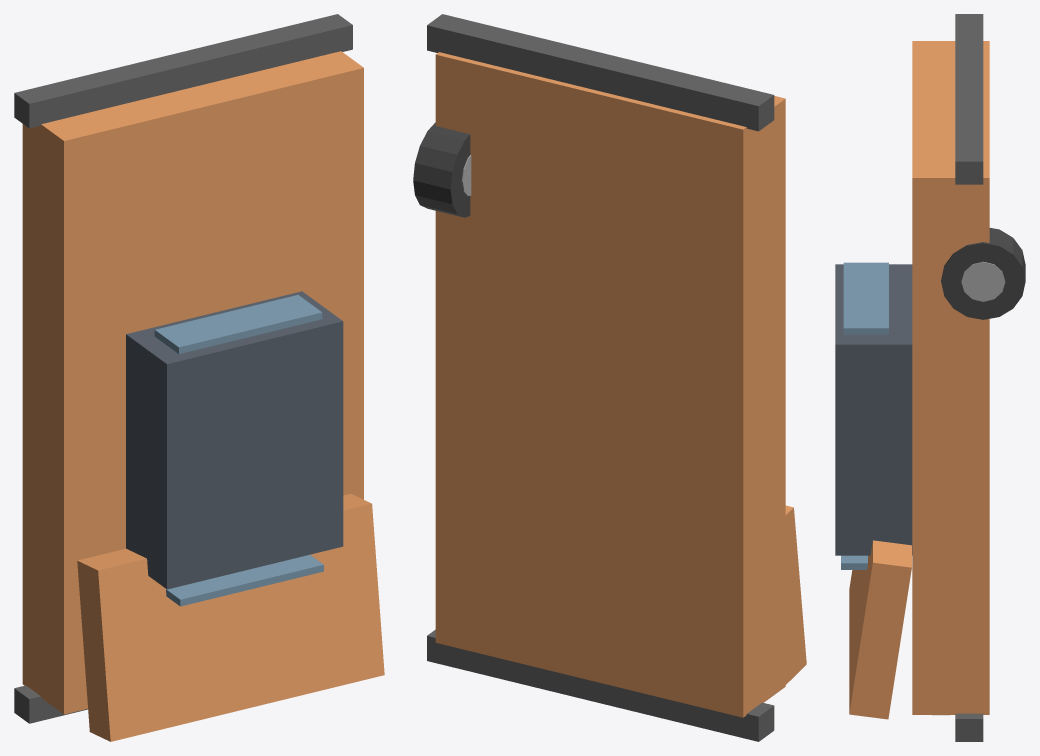
Rendered from vehicle_orange_muscle_car.glb.
3 views of the same model, side by side, from view 1: azimuth 30°, elevation 25°; view 2: azimuth 150°, elevation 25°; view 3: azimuth 270°, elevation 25° (orthographic). The views are drawn at different scales.
Visible parts, largest first — view 1: body, dark_cabin, front_wedge, rear_bumper, rear_window, front_window, front_bumper; view 2: body, rear_bumper, front_bumper, wheel_tire, front_wedge; view 3: body, dark_cabin, front_wedge, rear_bumper, wheel_tire, rear_window, wheel_hub, front_bumper, front_window.
Part boxes in pixels (box(x1,y1,x2,y2)): body: box(22, 51, 363, 714); dark_cabin: box(126, 291, 343, 589); front_wedge: box(77, 494, 384, 741); rear_bumper: box(14, 14, 352, 128); rear_window: box(154, 295, 322, 353); front_window: box(166, 554, 323, 606); front_bumper: box(14, 685, 87, 723); body: box(435, 52, 785, 717); rear_bumper: box(427, 14, 774, 131); front_bumper: box(427, 629, 774, 741); wheel_tire: box(413, 122, 470, 217); front_wedge: box(785, 505, 806, 684); body: box(912, 41, 989, 714); dark_cabin: box(835, 264, 912, 555); front_wedge: box(849, 540, 911, 719); rear_bumper: box(955, 14, 983, 184); wheel_tire: box(941, 228, 1025, 319); rear_window: box(843, 262, 888, 334); wheel_hub: box(961, 261, 1005, 301); front_bumper: box(955, 713, 983, 741); front_window: box(841, 555, 867, 569).
Size of the model in its own units: 2.48 by 4.56 by 1.35.
